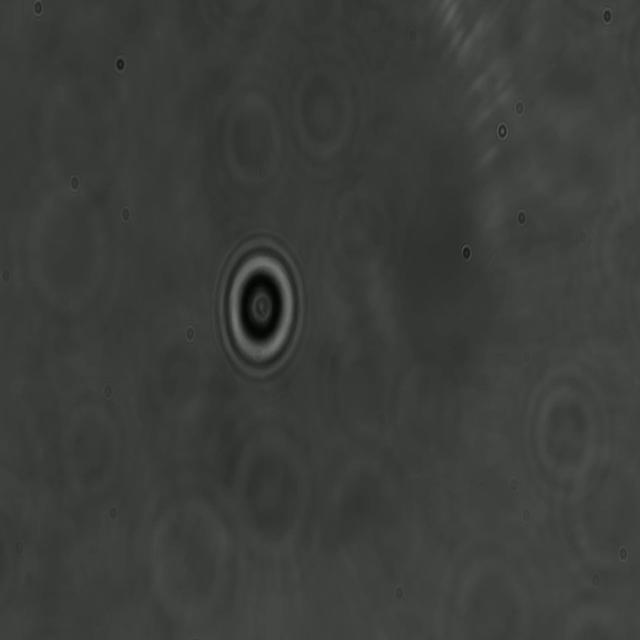LCELL: (213, 232, 308, 388)
